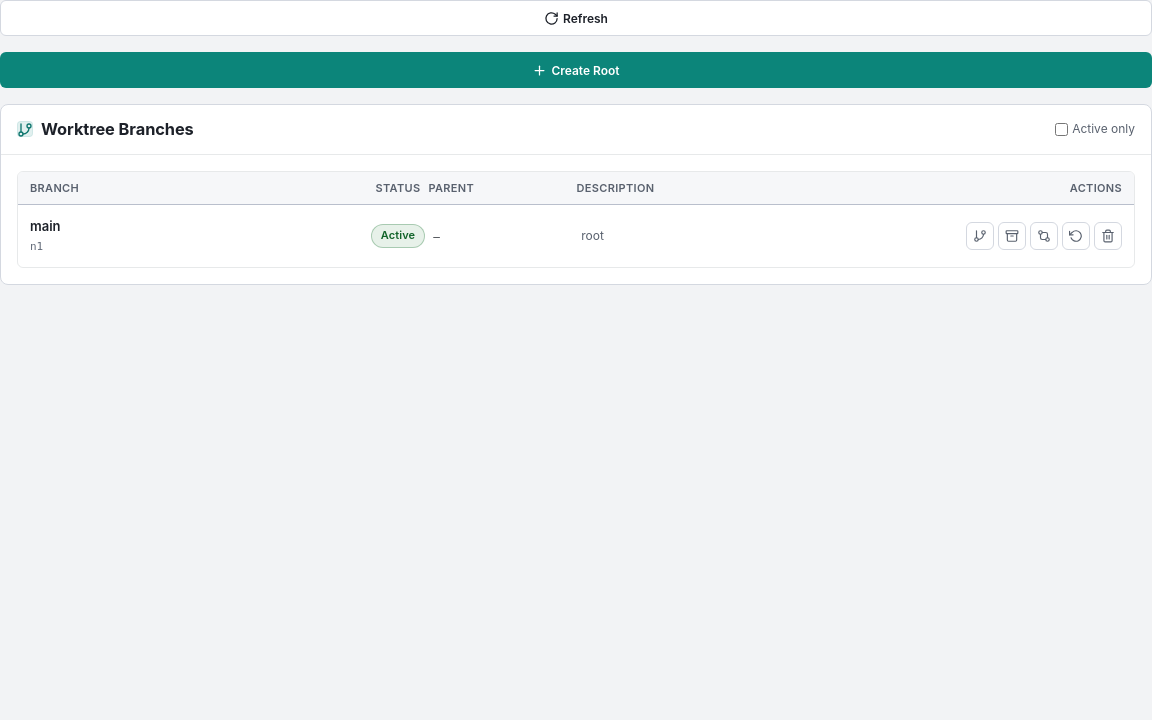
Test case: Worktrees.vue › opens branch modal when branch button on a row clicked
Click the 1st button with class "icon-btn" at point(980, 236), box [966,222,994,250]
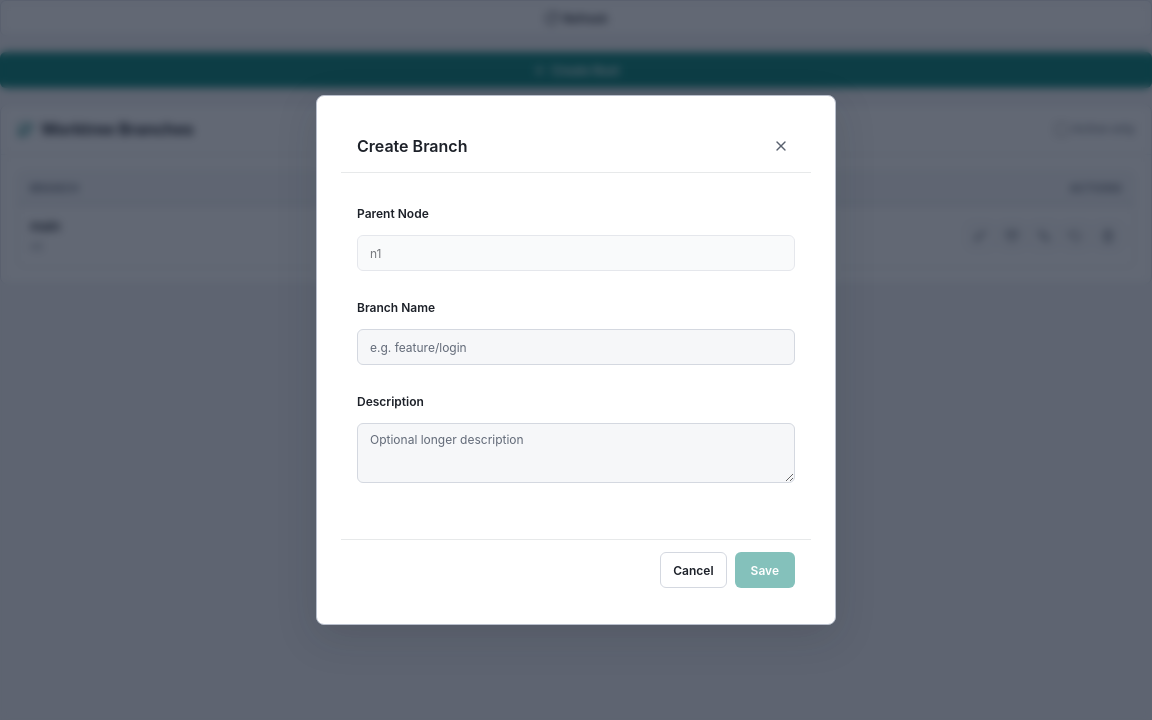
expect the dialog with class "modal-overlay" is shown: met
